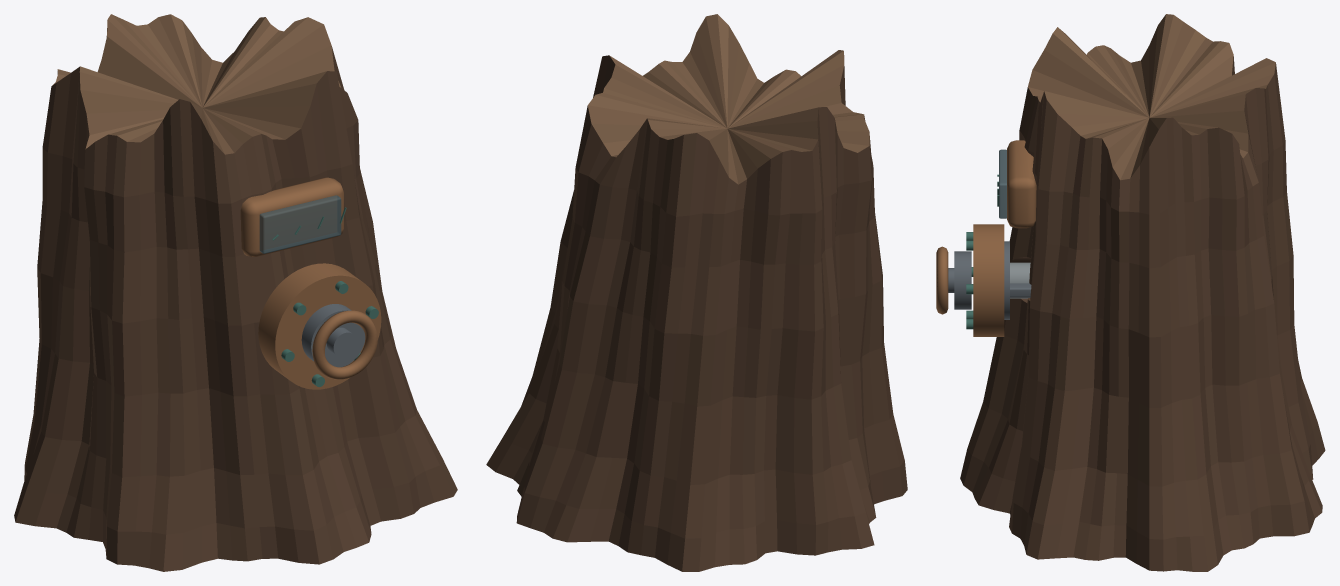
The model's file is hollow_trunk_pin.glb.
The picture shows the model from 3 angles, left to right: view 1: azimuth 30°, elevation 25°; view 2: azimuth 150°, elevation 25°; view 3: azimuth 270°, elevation 25°; orthographic projection. The views are drawn at different scales.
Parts seen in each view (by area): view 1: Ancient trunk, Bronze keyway collar, Shaped plaque backing, Smoky glass plate, Twisted bronze pull loop, Pin head washer, Loop mounting stud; view 2: Ancient trunk; view 3: Ancient trunk, Bronze keyway collar, Shaped plaque backing, Pin head washer, Twisted bronze pull loop, Smoky glass plate.
Part boxes in pixels (x1=…): Ancient trunk: x1=14, y1=14, x2=457, y2=571; Bronze keyway collar: x1=258, y1=263, x2=381, y2=389; Shaped plaque backing: x1=240, y1=177, x2=343, y2=256; Smoky glass plate: x1=259, y1=195, x2=341, y2=253; Twisted bronze pull loop: x1=312, y1=310, x2=377, y2=379; Pin head washer: x1=301, y1=304, x2=365, y2=367; Loop mounting stud: x1=326, y1=327, x2=357, y2=357; Ancient trunk: x1=486, y1=14, x2=907, y2=571; Ancient trunk: x1=960, y1=14, x2=1325, y2=571; Bronze keyway collar: x1=973, y1=224, x2=1004, y2=336; Shaped plaque backing: x1=1007, y1=140, x2=1036, y2=228; Pin head washer: x1=954, y1=251, x2=971, y2=309; Twisted bronze pull loop: x1=936, y1=246, x2=948, y2=314; Smoky glass plate: x1=999, y1=149, x2=1006, y2=218.
Size of the model in its own units: 1.83 by 1.99 by 1.7.
